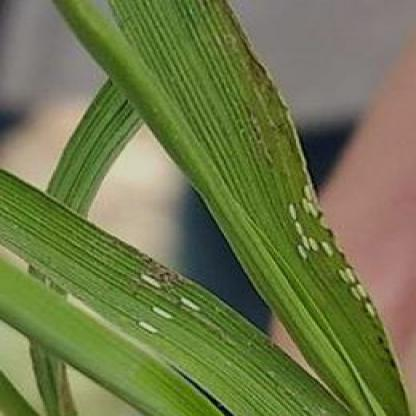whorl-maggot: (131, 267, 167, 296), (134, 316, 170, 344), (142, 304, 178, 330), (280, 192, 307, 226), (294, 197, 320, 219), (178, 297, 208, 315), (346, 284, 379, 300), (288, 243, 310, 261), (337, 264, 355, 286), (289, 218, 308, 236), (320, 240, 339, 258), (362, 301, 378, 322), (303, 186, 316, 200)
